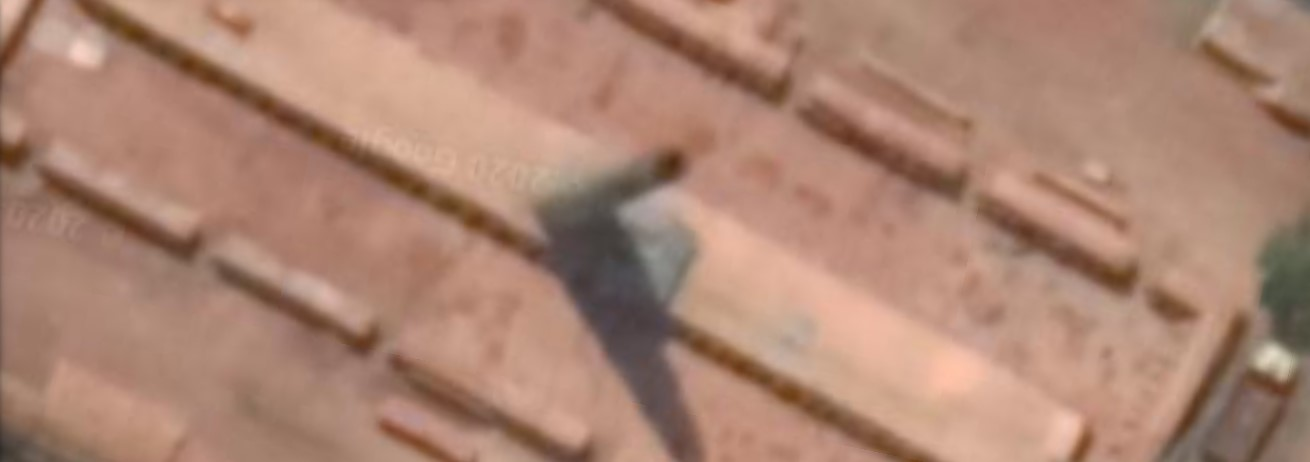kiln: (227, 88, 1004, 462)
